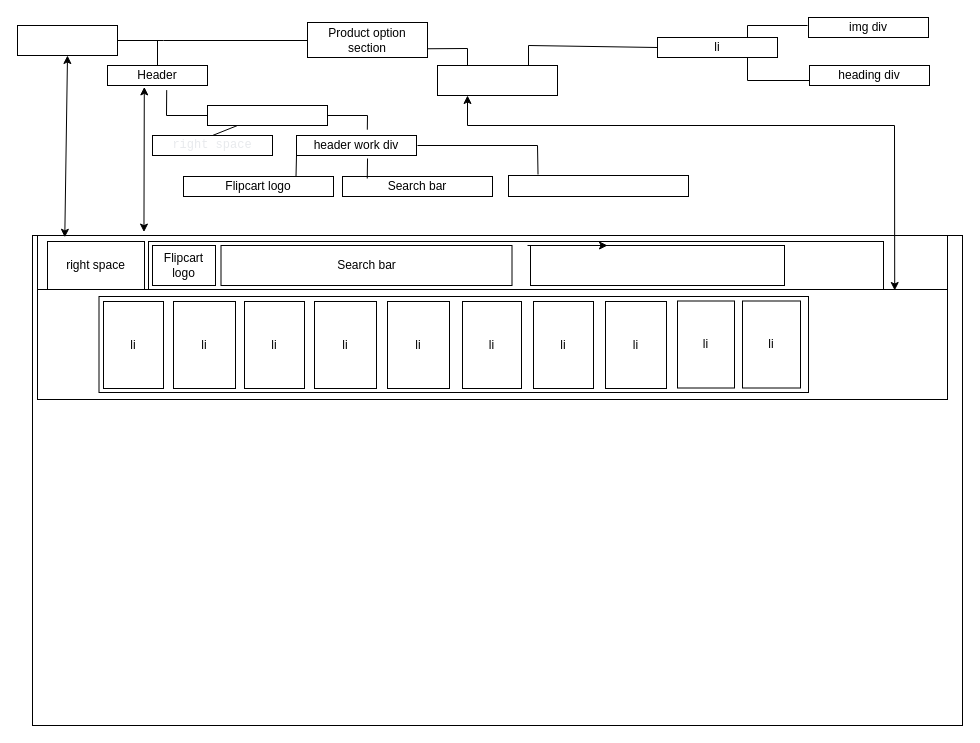
The diagram is 980 pixels wide and 743 high, and some of its shapes have lost their labels. The centre of each missing label's shape, as x and y in pixels:
Body: the point at 67,40
header-main-div: the point at 267,115
nav option: the point at 598,185
Nav options: the point at 657,265
Product option ul: the point at 497,80
